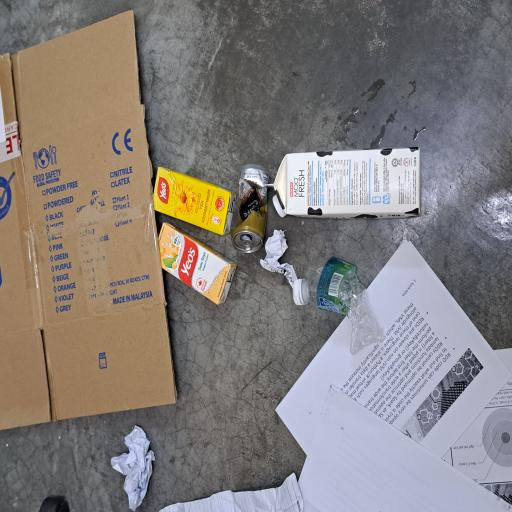can: (194, 307, 261, 358)
cardboard: (61, 0, 376, 242)
drink carton: (220, 352, 274, 512), (156, 208, 218, 316), (206, 204, 260, 315)
paper: (0, 366, 204, 512), (0, 213, 29, 402), (0, 148, 65, 208), (168, 347, 212, 397)
plastic bottle: (117, 405, 192, 511)
plastic bottle cap: (154, 390, 176, 405), (221, 364, 238, 382)
pop tab: (195, 323, 205, 336)
